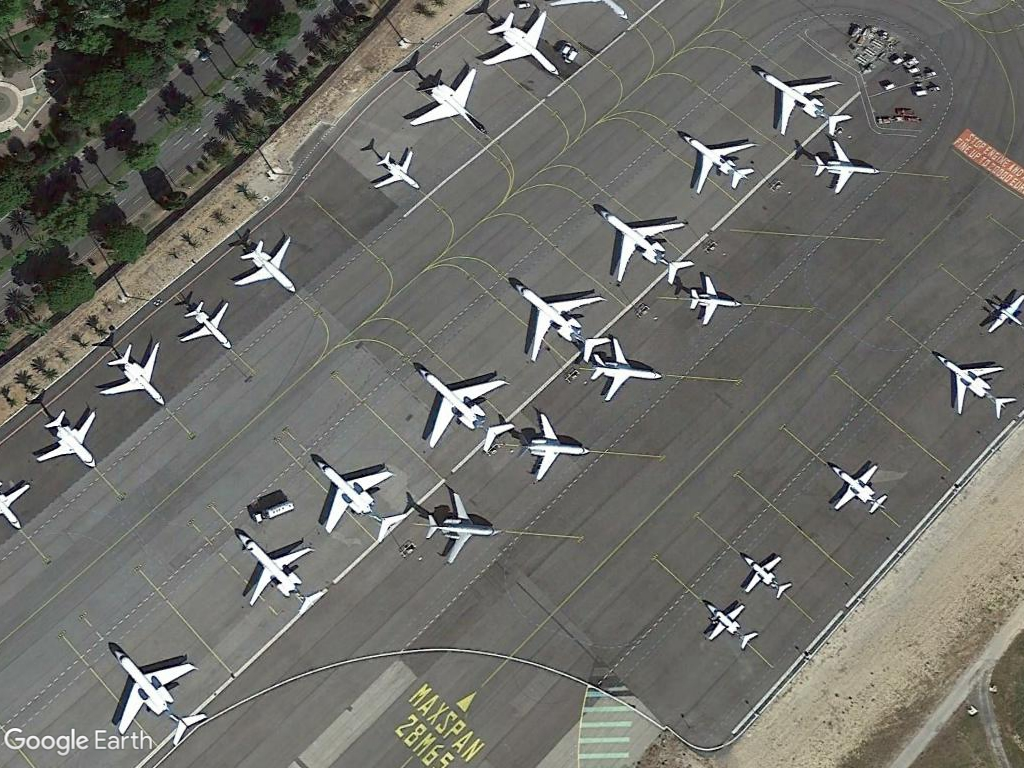chartered: (99, 642, 209, 749), (307, 450, 411, 545), (227, 523, 329, 619), (412, 360, 515, 454), (589, 200, 695, 286), (509, 275, 610, 365), (419, 488, 503, 566), (932, 345, 1016, 422), (674, 127, 761, 199), (805, 134, 884, 199), (96, 342, 170, 410), (30, 411, 104, 472), (234, 236, 299, 298), (824, 458, 892, 517), (178, 296, 238, 353), (681, 272, 744, 326), (372, 145, 424, 194)
